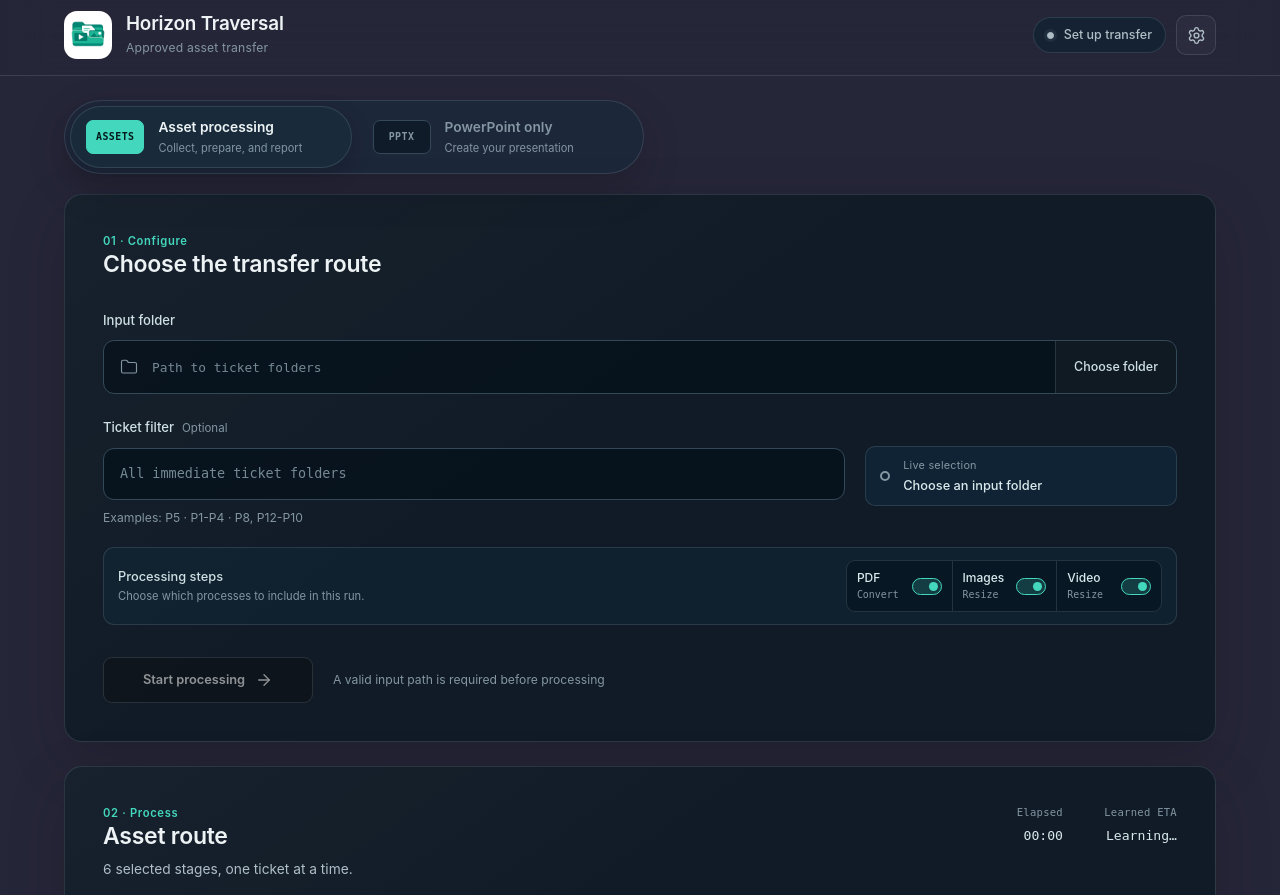
it: Horizon Traversal workbench › flushes pending events before showing an invocation failure
Type "/tickets" into the field labelled "Input folder".
click(596, 367); type("/tickets")  # box [138, 343, 1055, 392]
Wait 360 ms
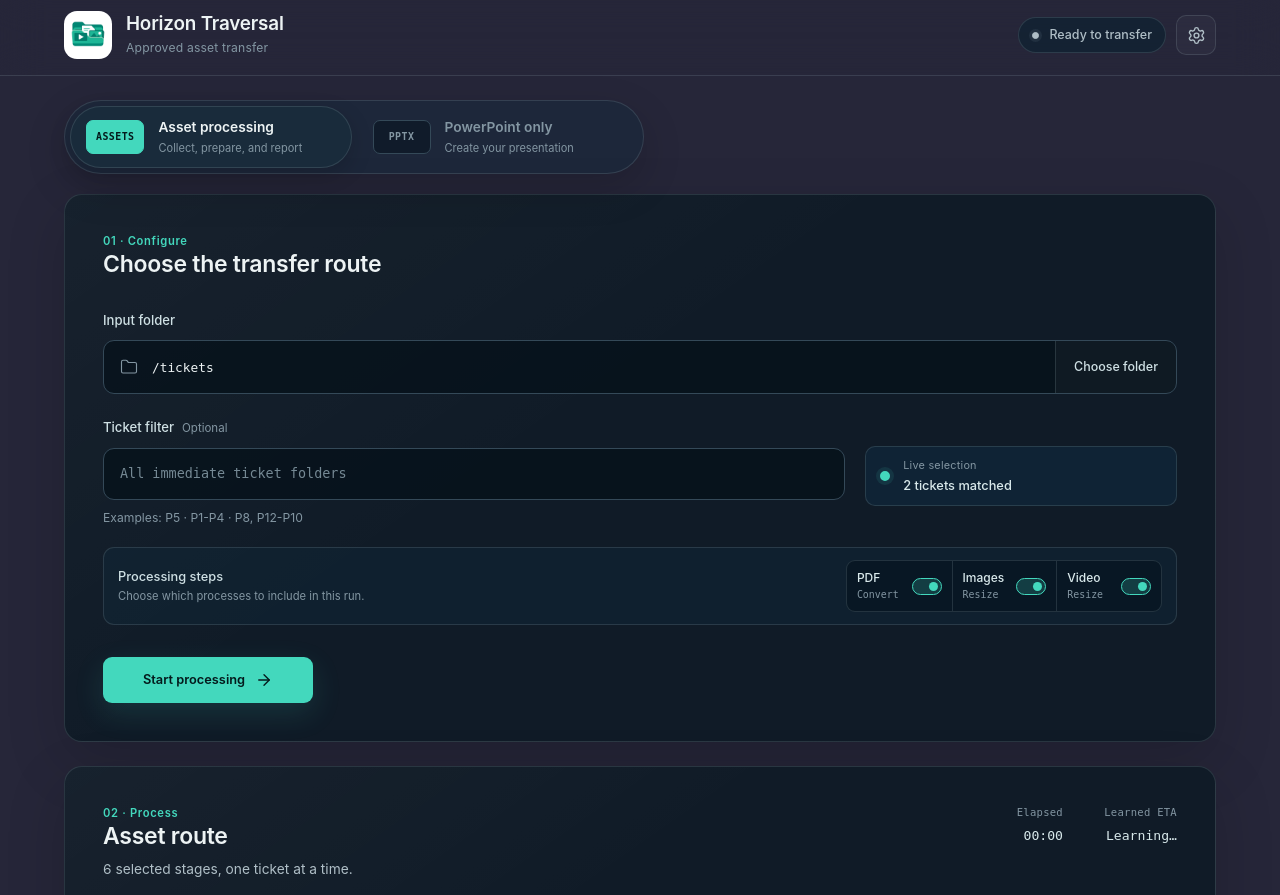
Click the button "Start processing".
click(208, 680)  # box [103, 657, 313, 703]
(page scrolled)
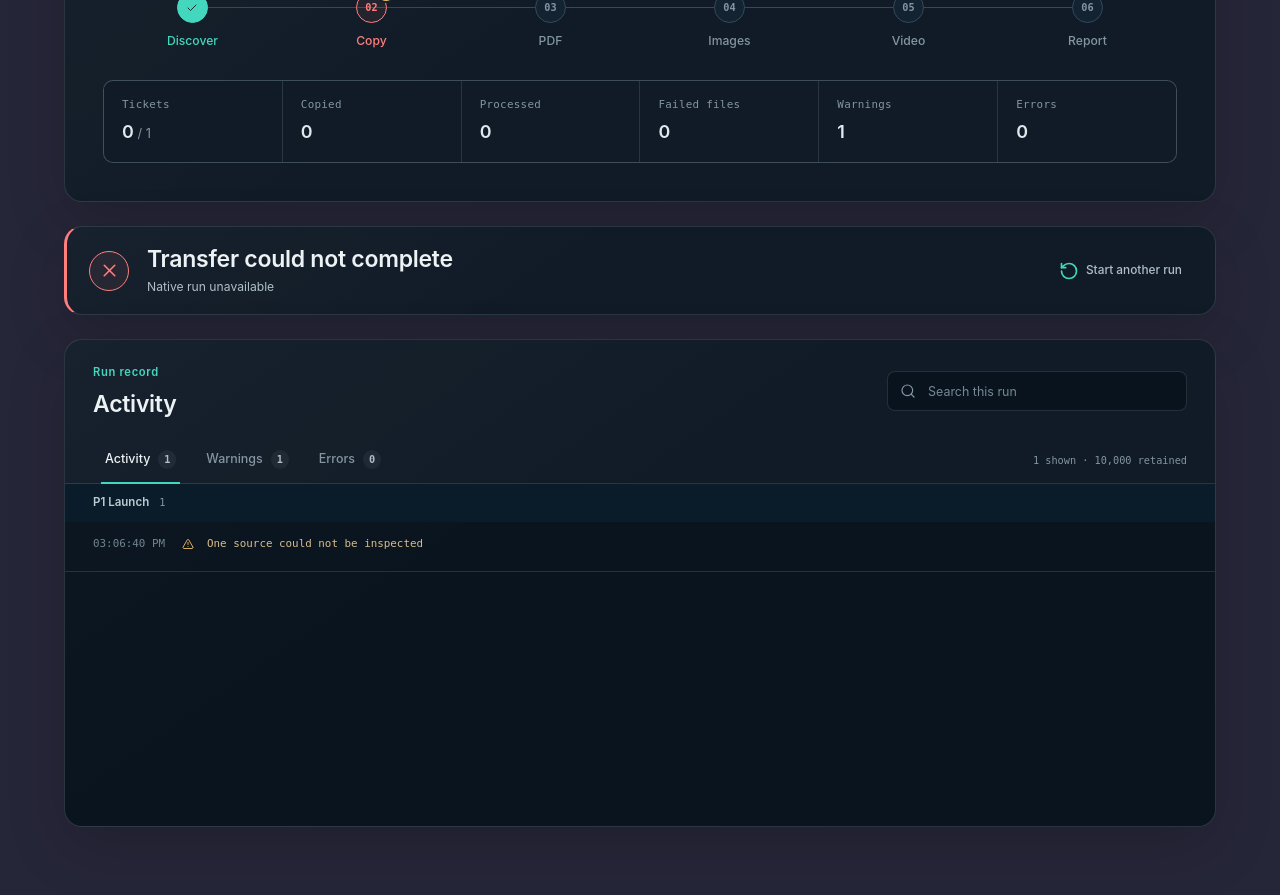
Expected: the heading "Transfer could not complete" is shown, [147, 245, 453, 273]
Expected: the tab "Warnings 1" is shown, [194, 437, 301, 483]
Expected: the text "One source could not be inspected" is shown, [207, 537, 423, 550]
